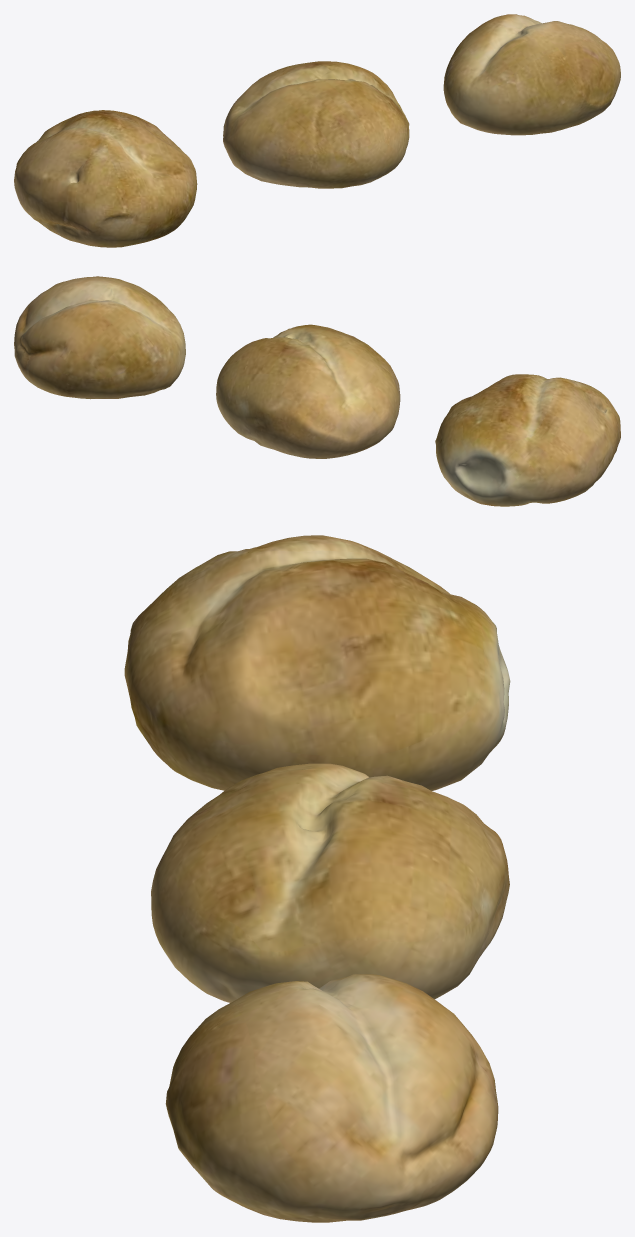
The model's file is ph_hamburger_buns.glb.
The picture shows the model from 3 angles, top to bottom: view 1: azimuth 30°, elevation 25°; view 2: azimuth 150°, elevation 25°; view 3: azimuth 270°, elevation 25°; orthographic projection. The views are drawn at different scales.
Visible parts, largest first — view 1: hamburger_buns_01; view 2: hamburger_buns_01; view 3: hamburger_buns_01.
Boxes of the visible parts, left/top/right/bottom form: hamburger_buns_01: left=14, top=14, right=620, bottom=247; hamburger_buns_01: left=14, top=276, right=620, bottom=506; hamburger_buns_01: left=124, top=535, right=510, bottom=1222.
Size of the model in its own units: 0.3972 by 0.0634 by 0.1138.
1 material, 1 textured.
